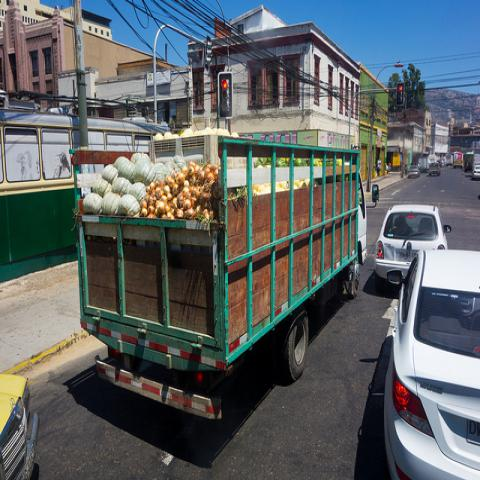car: (380, 244, 480, 474), (376, 200, 450, 282), (2, 374, 40, 480), (463, 153, 474, 174), (427, 161, 441, 177), (407, 165, 420, 178), (472, 164, 479, 180), (453, 160, 463, 168), (437, 159, 445, 167)
truck: (69, 134, 380, 421)
